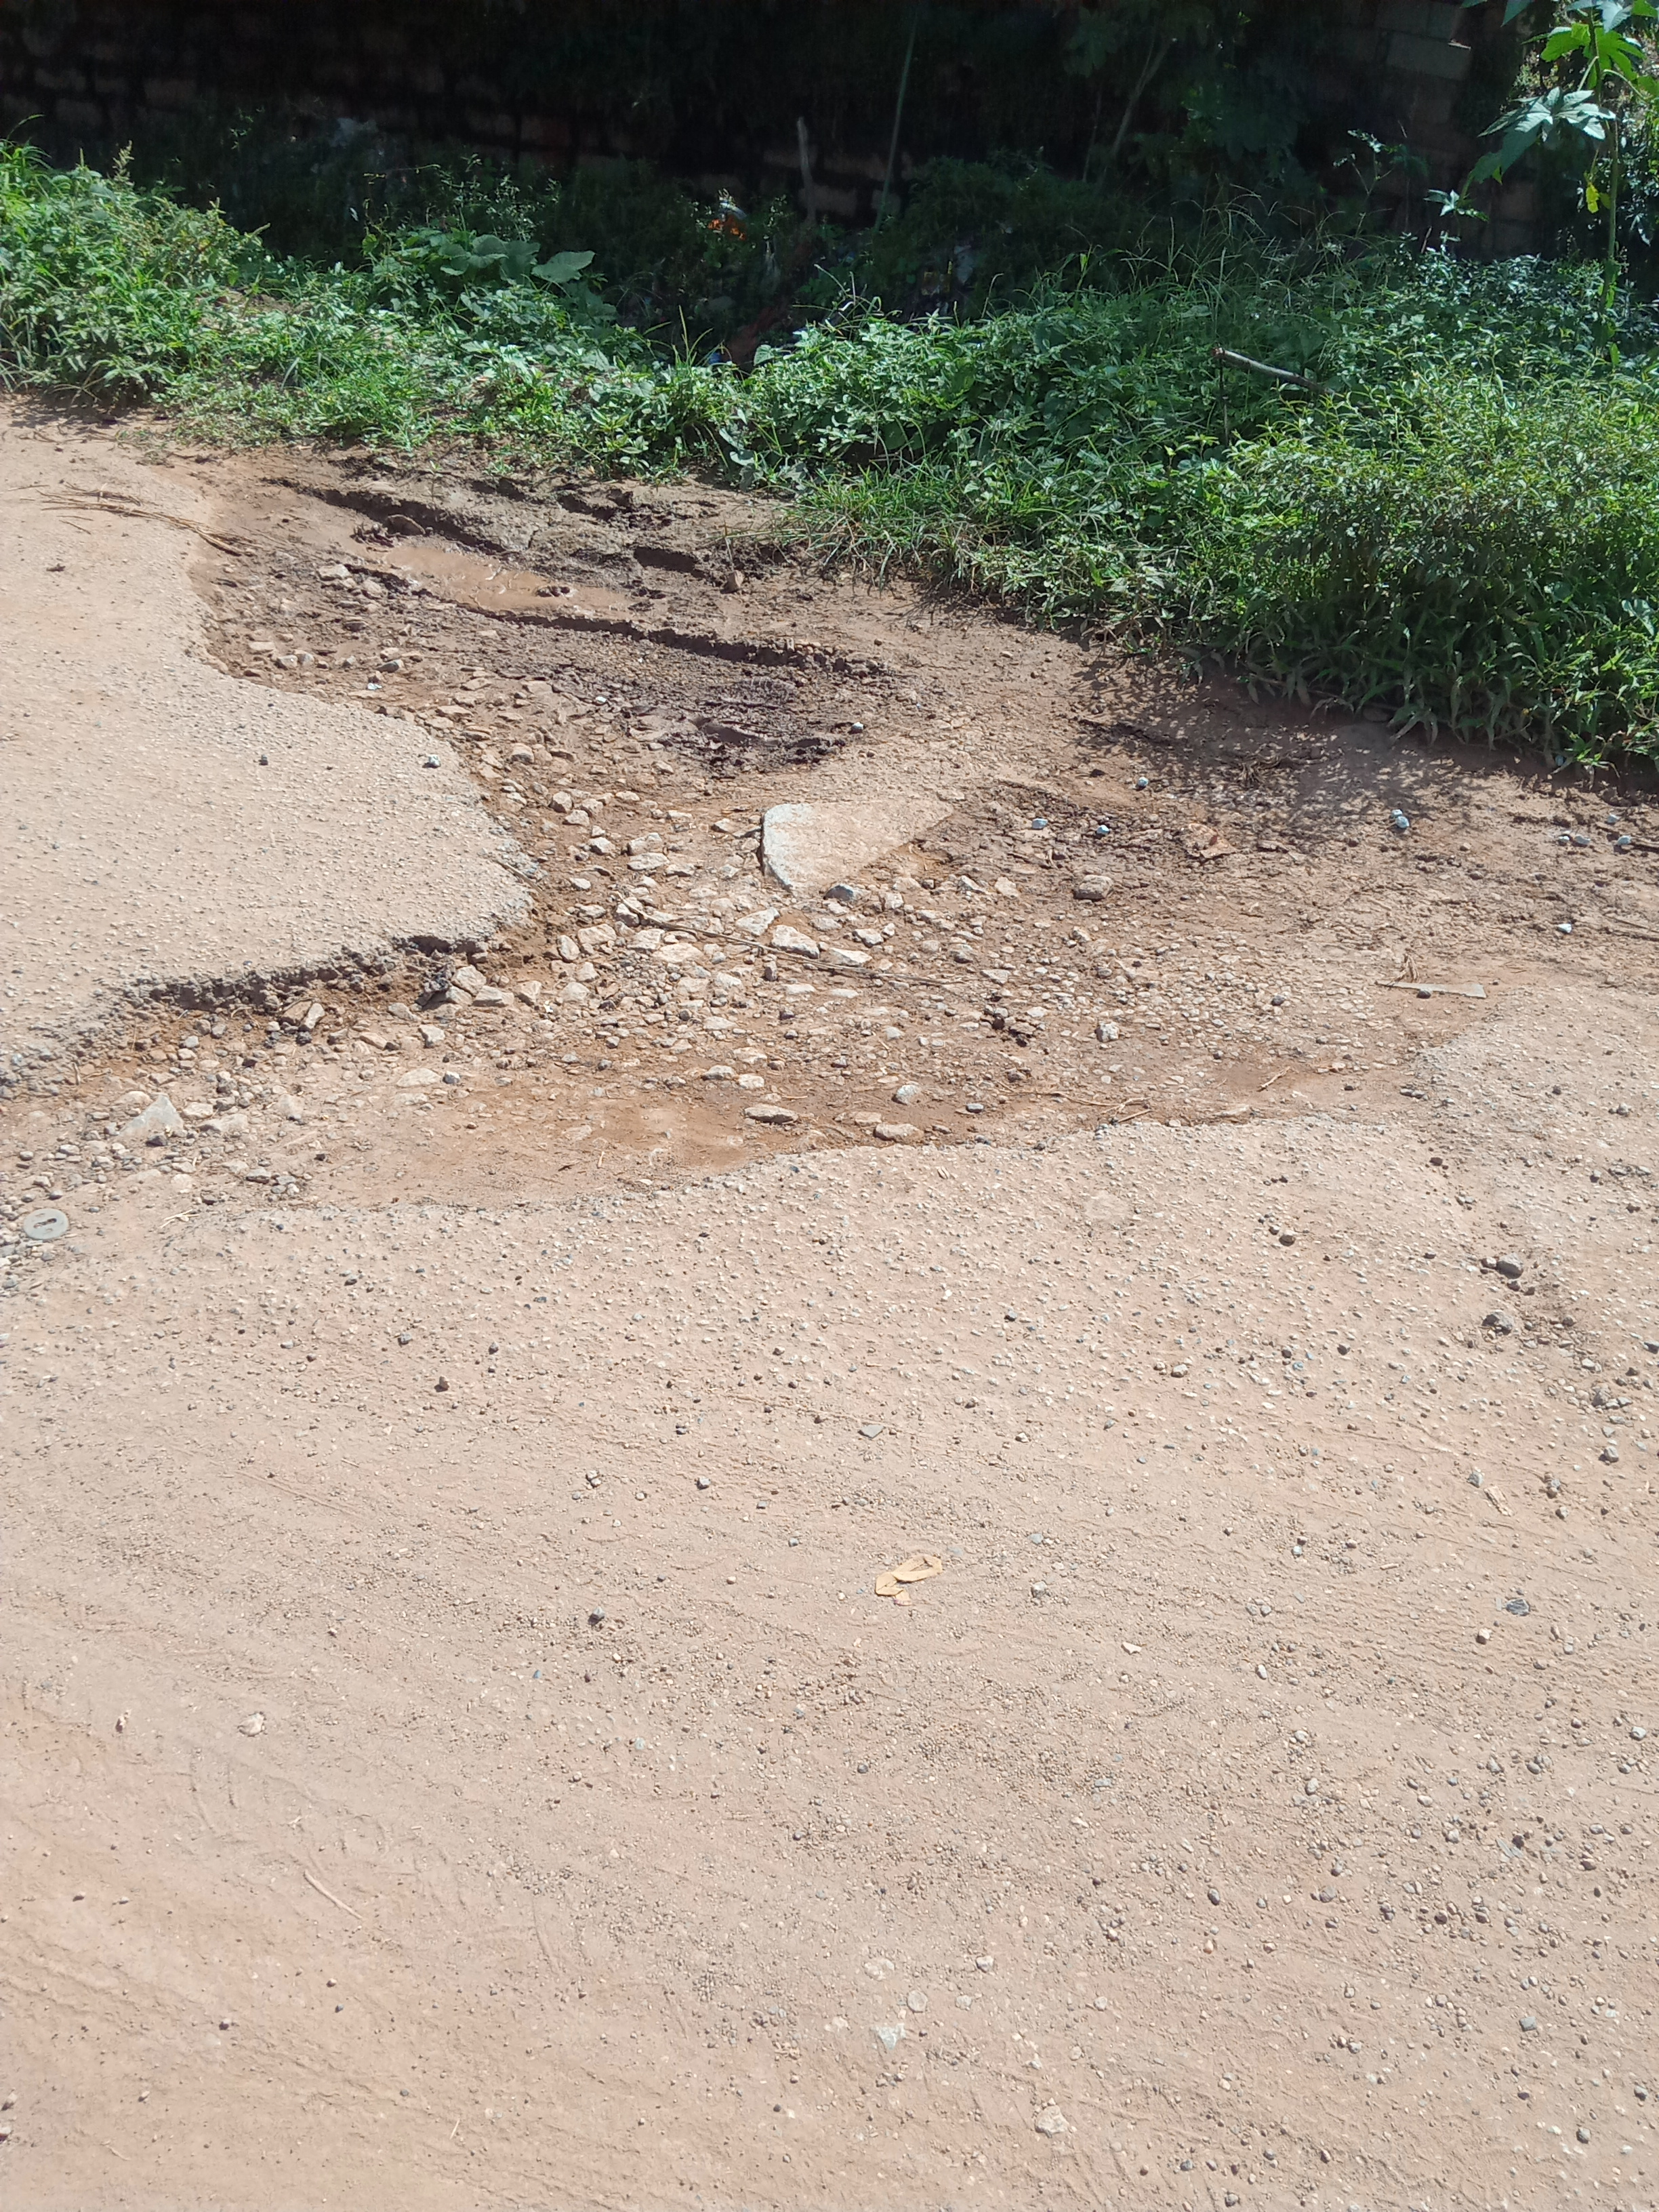potholes: (125, 475, 1251, 1214)
